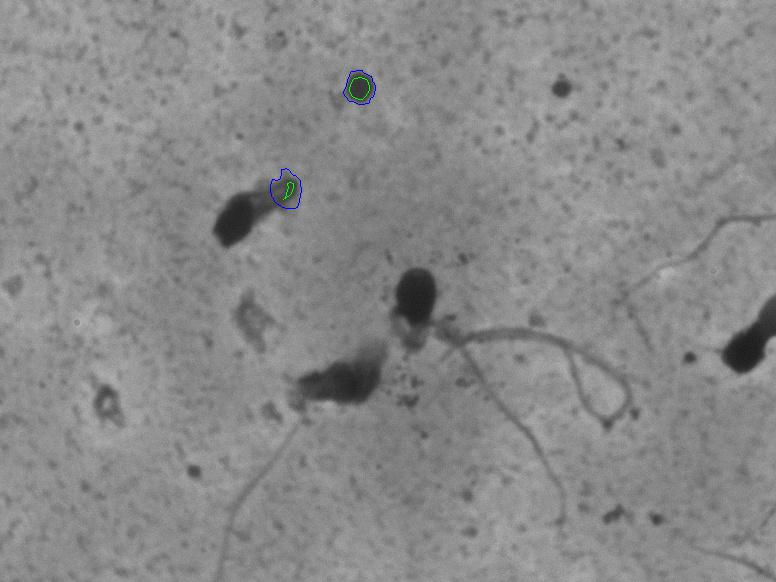Abnormal: (191, 141, 321, 281), (380, 239, 462, 370)
